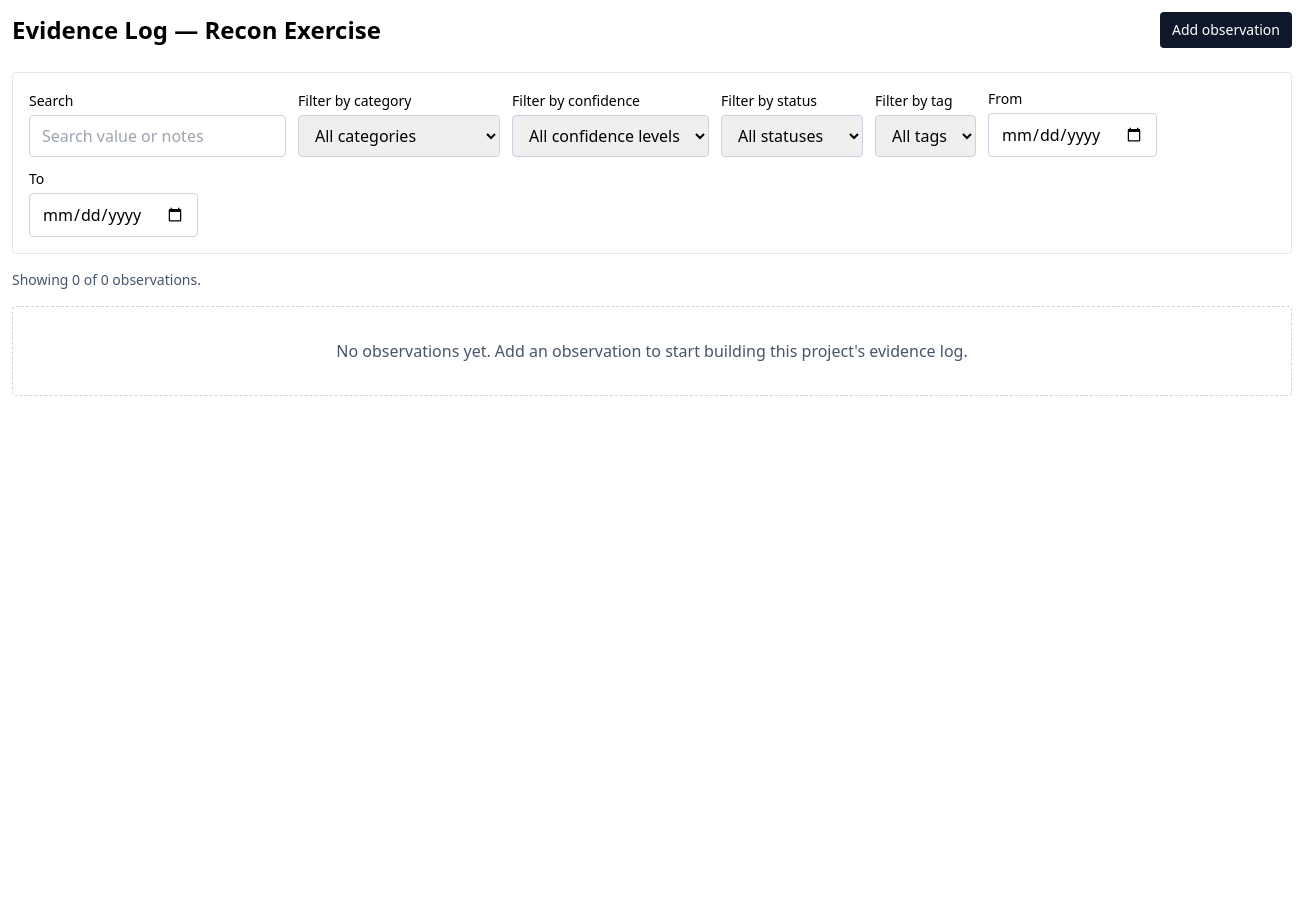
EvidenceScreen — FR-05/FR-06 create › adds an observation with category, value, confidence, and notes
The width and height of the screenshot is (1304, 912).
Step 1. Click the button "Add observation" → (1226, 30), box [1160,12,1292,48]
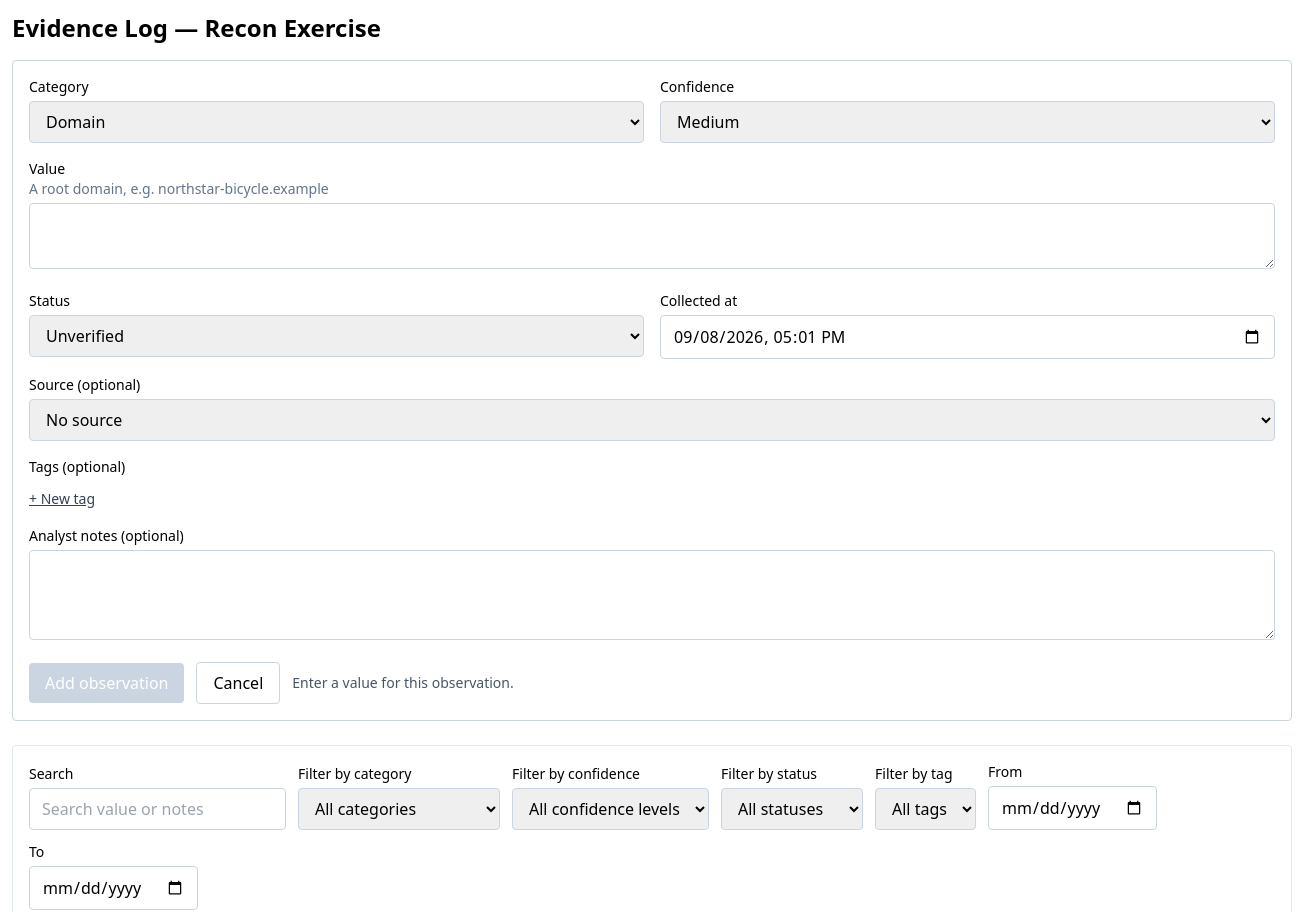
Step 2. Select "IP address" in the dropdown labelled "Category" → (336, 122), box [29,101,644,143]
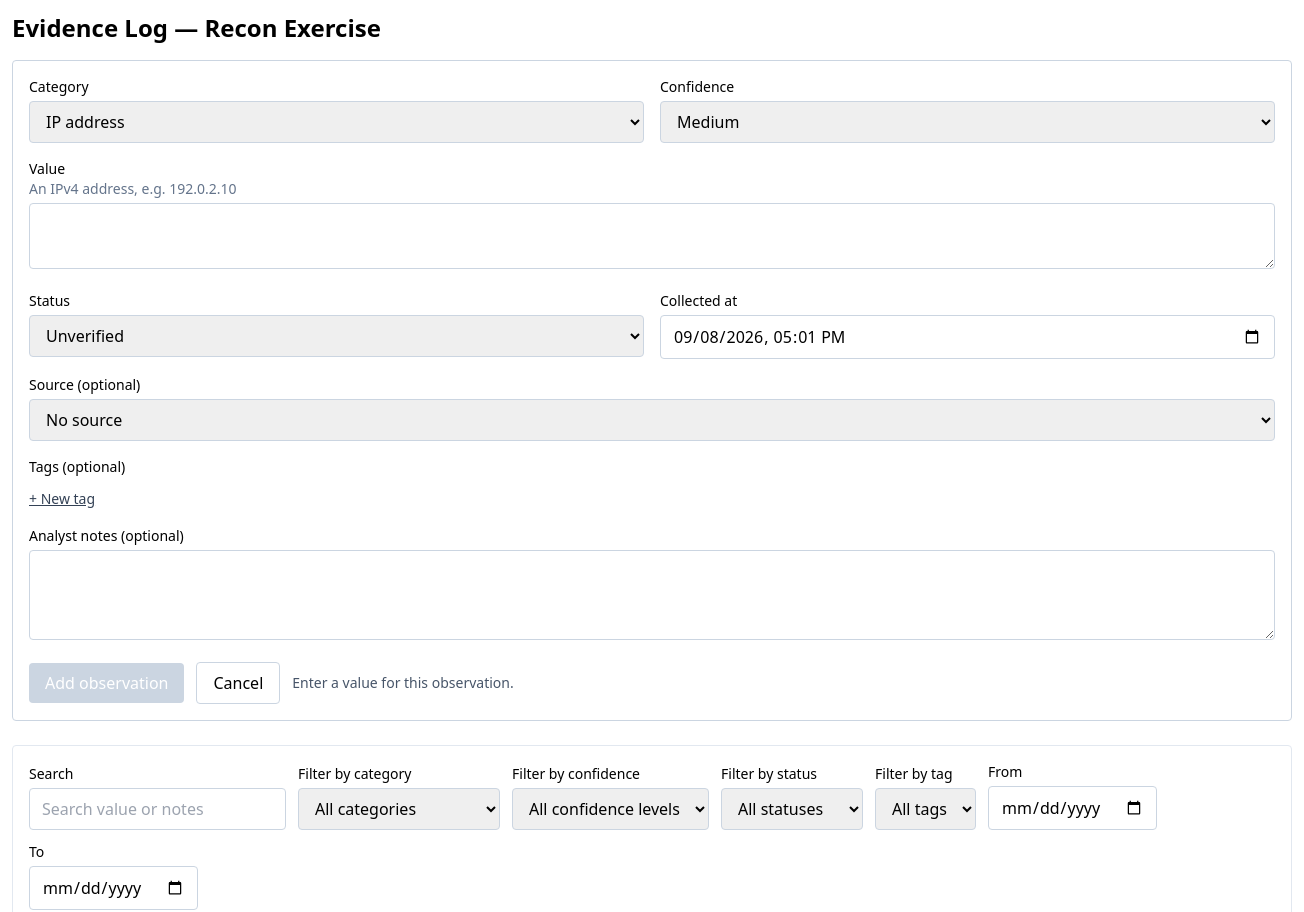
Step 3. Type "192.0.2.10" into the text box labelled "Value" → (652, 236), box [29,203,1275,269]
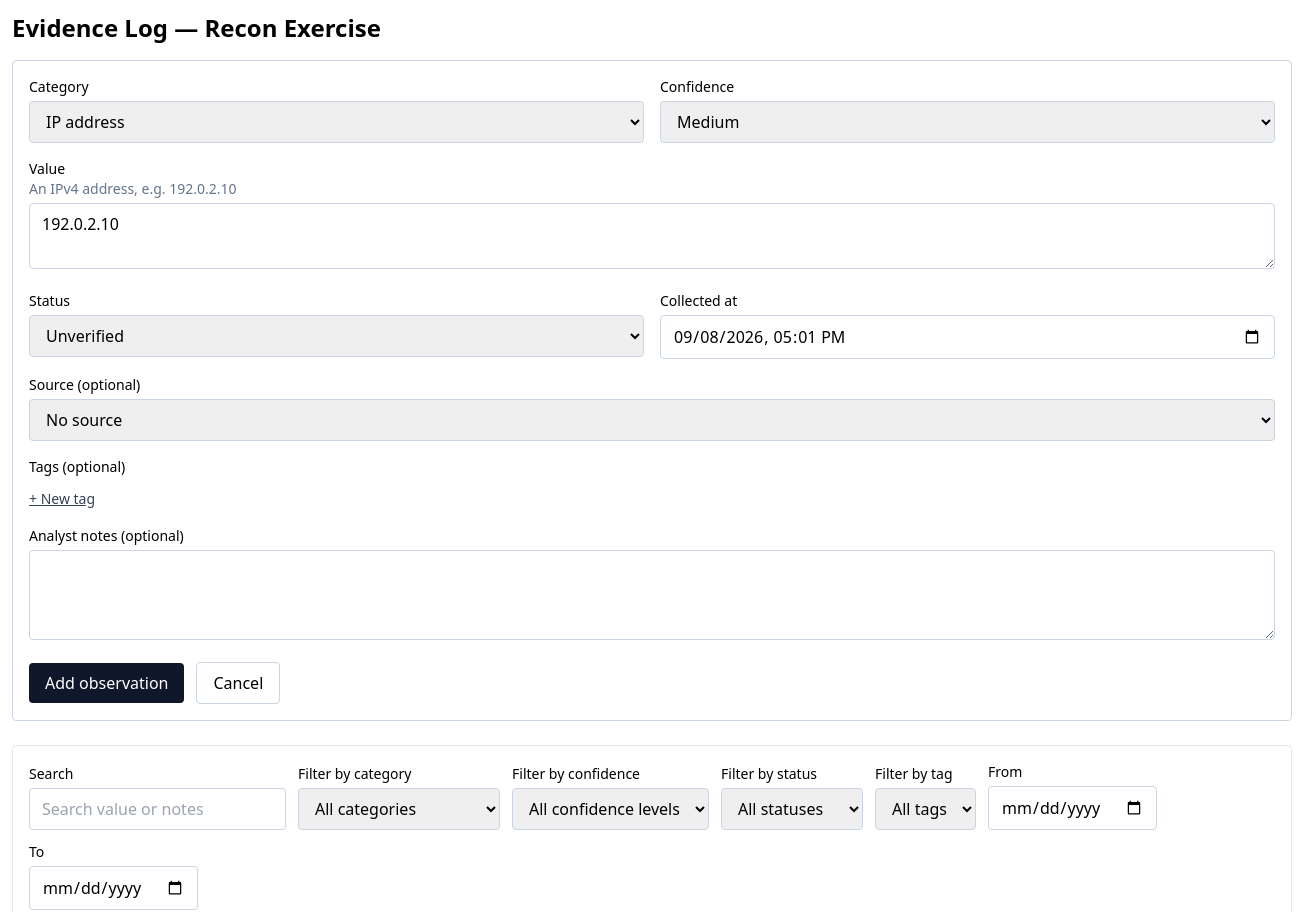
Step 4. Select "High" in the dropdown labelled "Confidence" → (968, 122), box [660,101,1275,143]
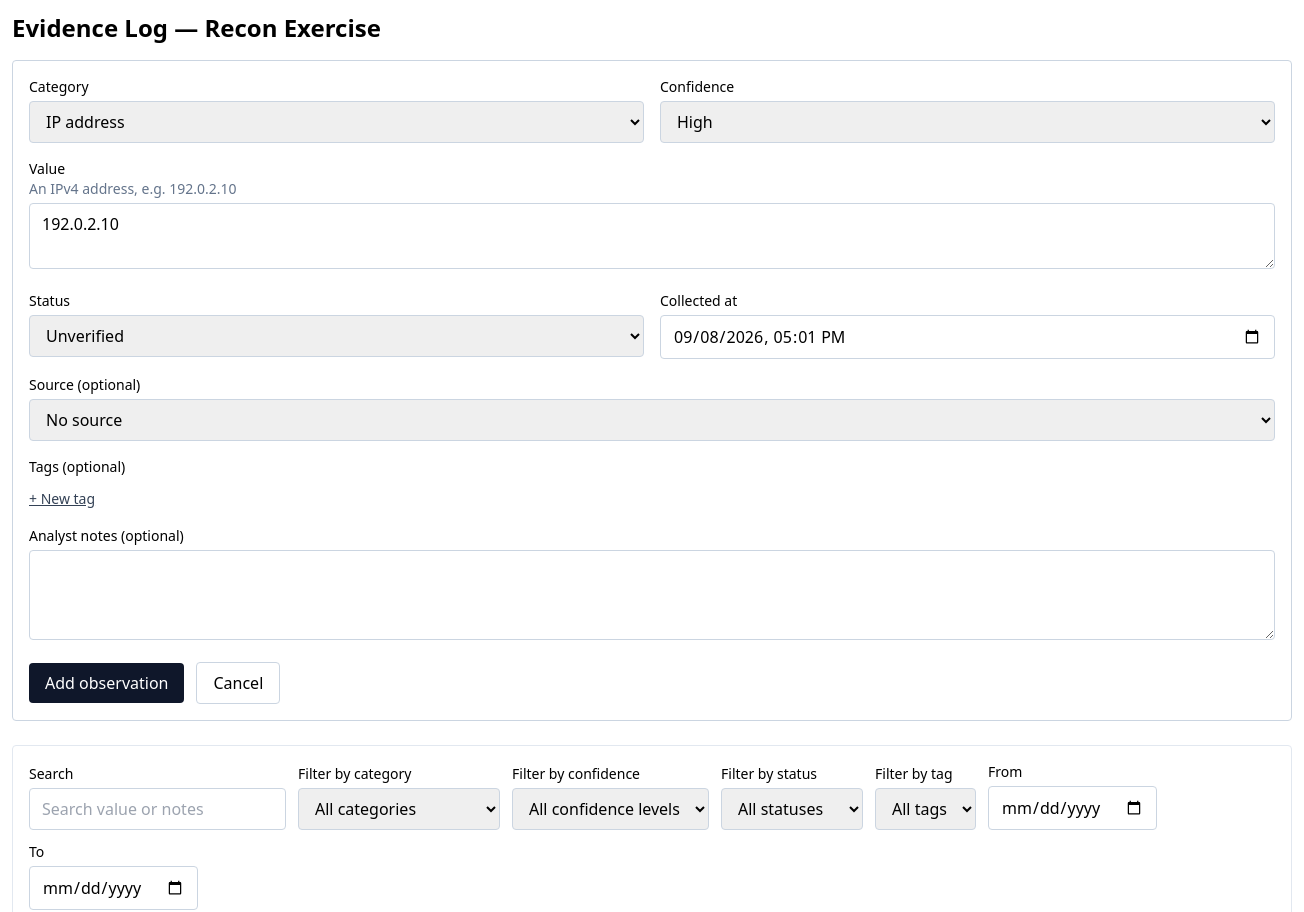
Step 5. Type "Found via passive DNS lookup." into the text box labelled "Analyst notes (optional)" → (652, 595), box [29,550,1275,640]
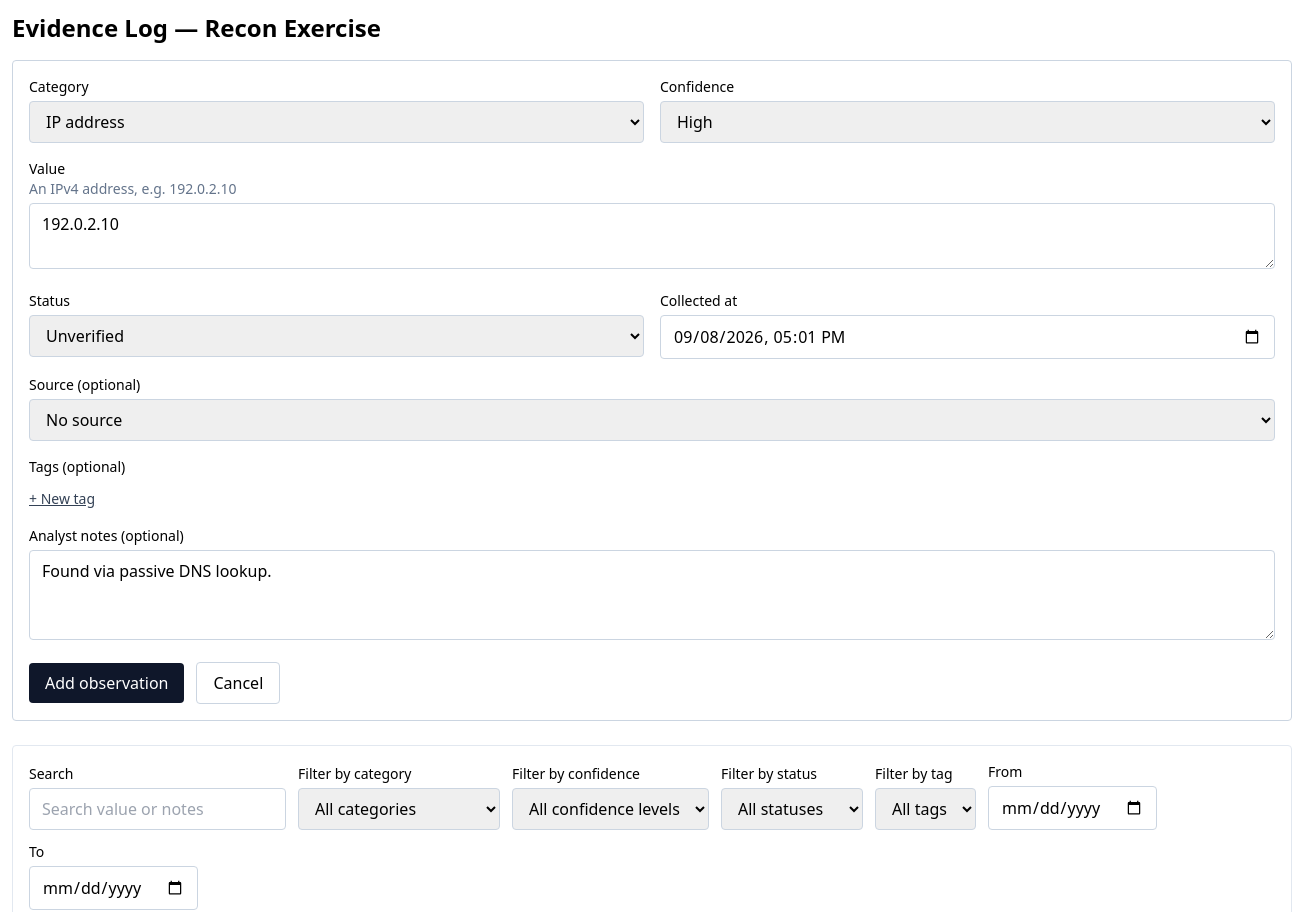
Step 6. Click the button "Add observation" → (107, 683), box [29,663,184,703]
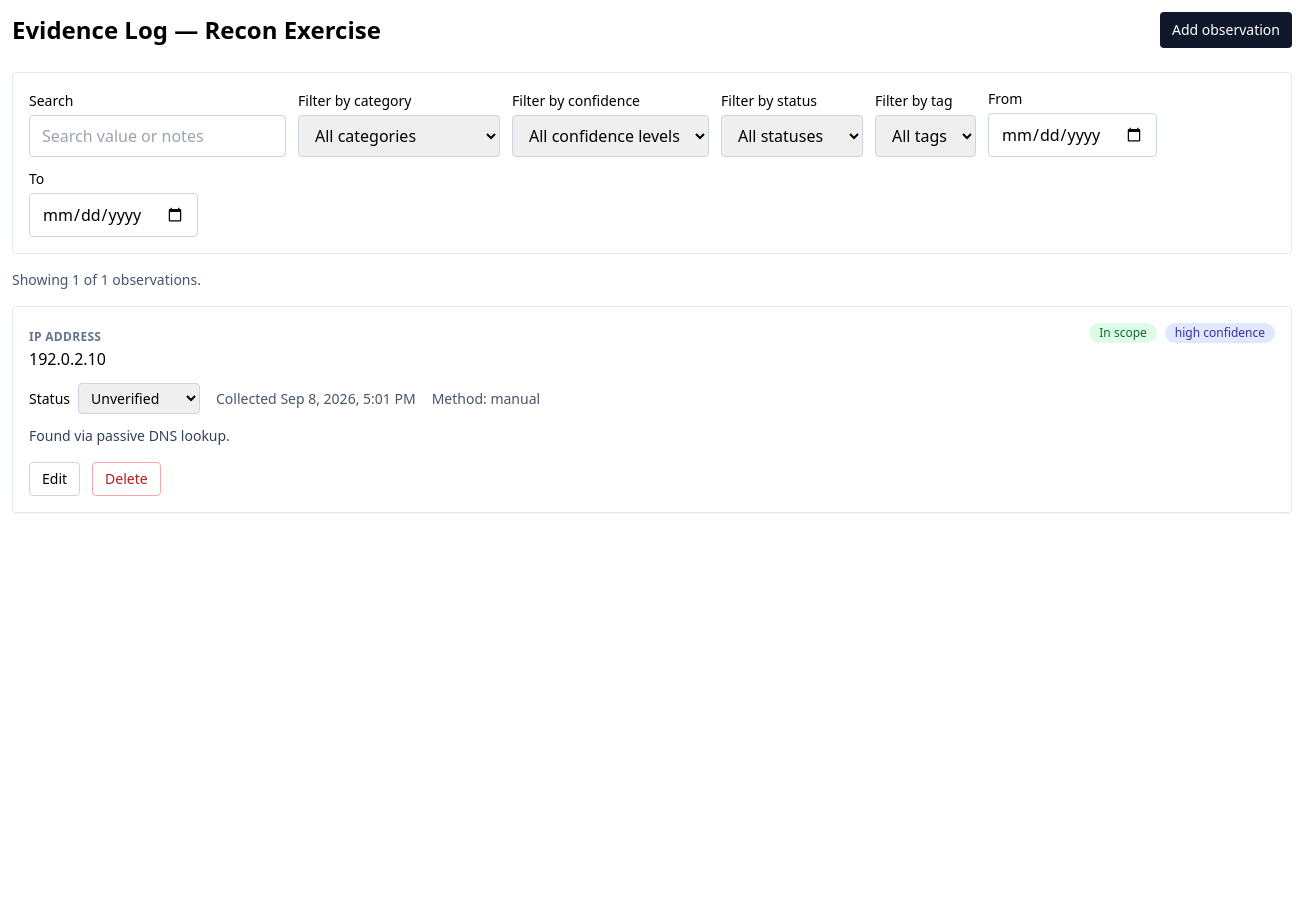
Expected: the text "192.0.2.10" is shown, [29,347,106,371]
Expected: the text "Found via passive DNS lookup." is shown, [29,426,230,445]
